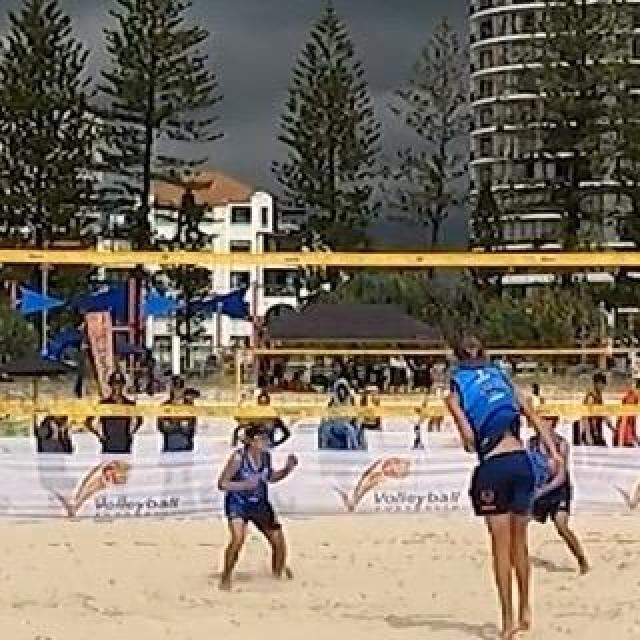volleyball: (353, 394, 375, 418)
